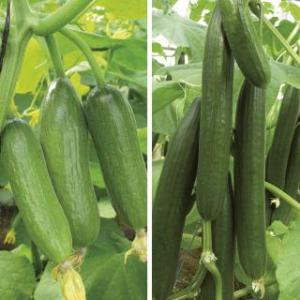cucumber: (1, 114, 77, 266), (152, 92, 205, 300), (37, 76, 99, 248), (85, 82, 147, 232), (196, 1, 234, 223), (232, 76, 268, 278), (218, 1, 276, 87), (266, 82, 300, 224), (274, 116, 300, 228)
